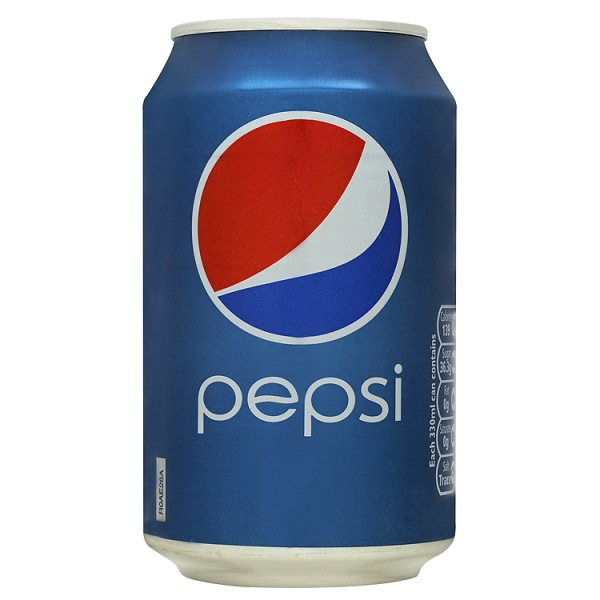pepsi: (195, 117, 406, 337)
